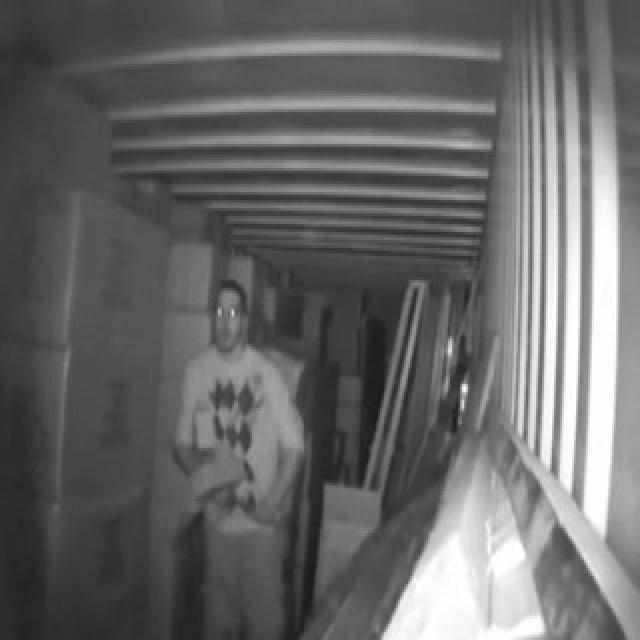thief: (188, 283, 311, 640)
